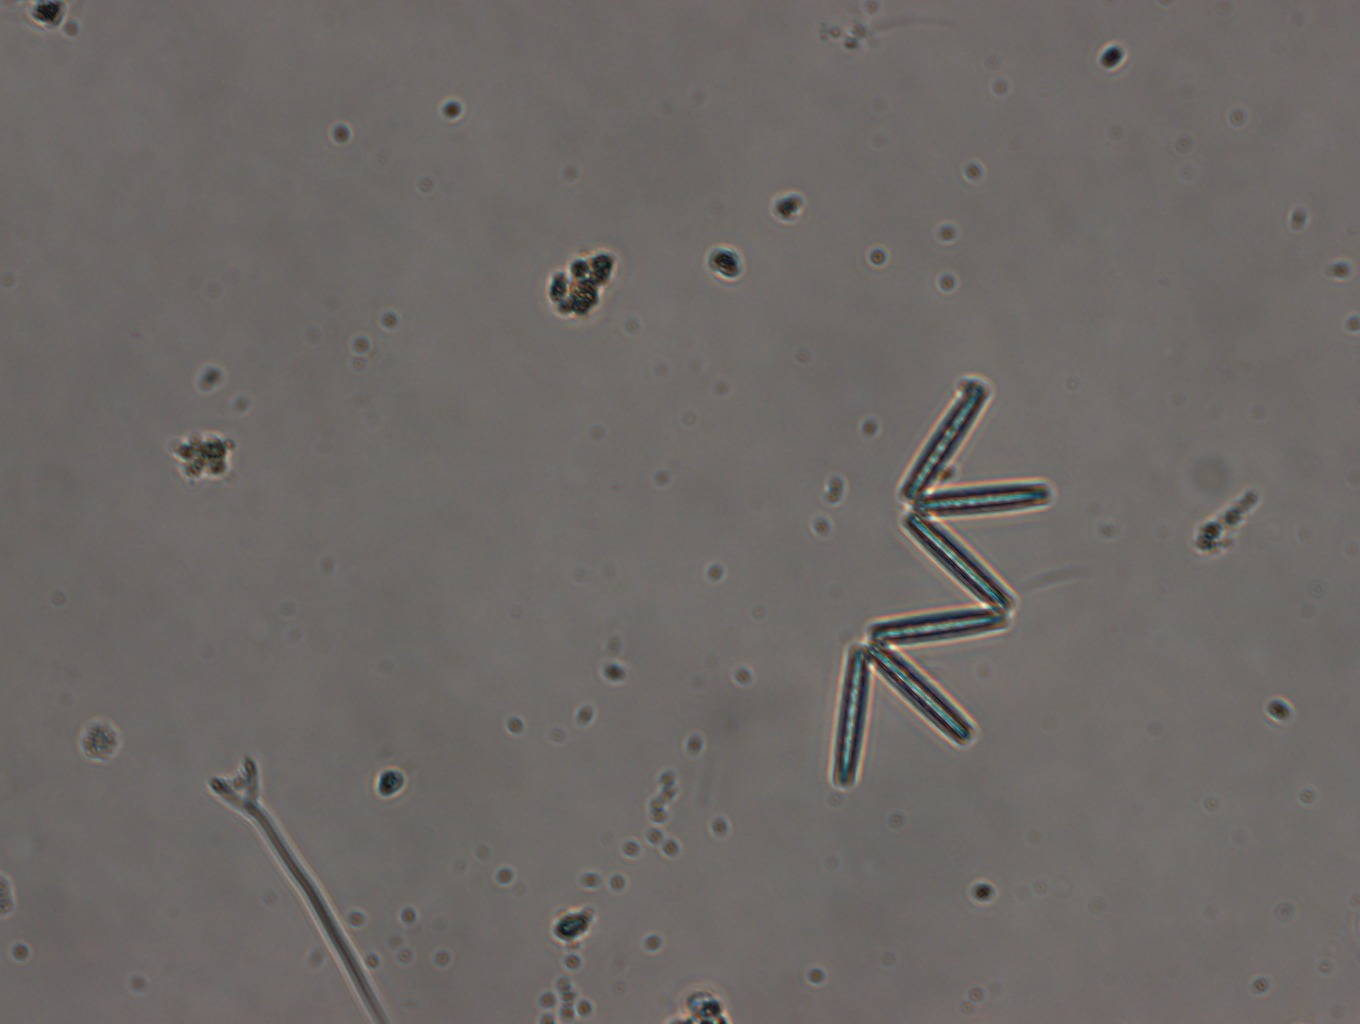thalassionema nitzschioides: (829, 370, 1055, 790)
